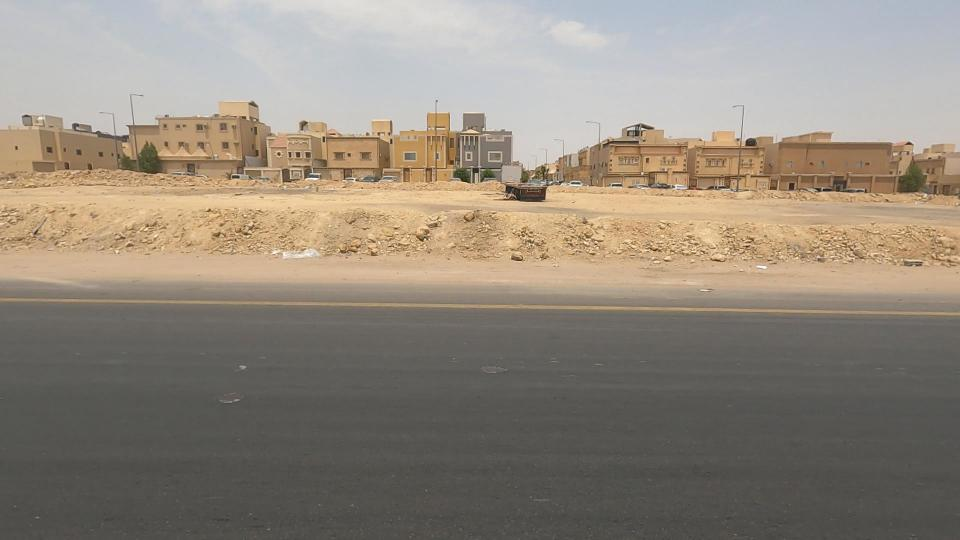GARBAGE: (226, 209, 370, 294), (735, 240, 790, 288)
